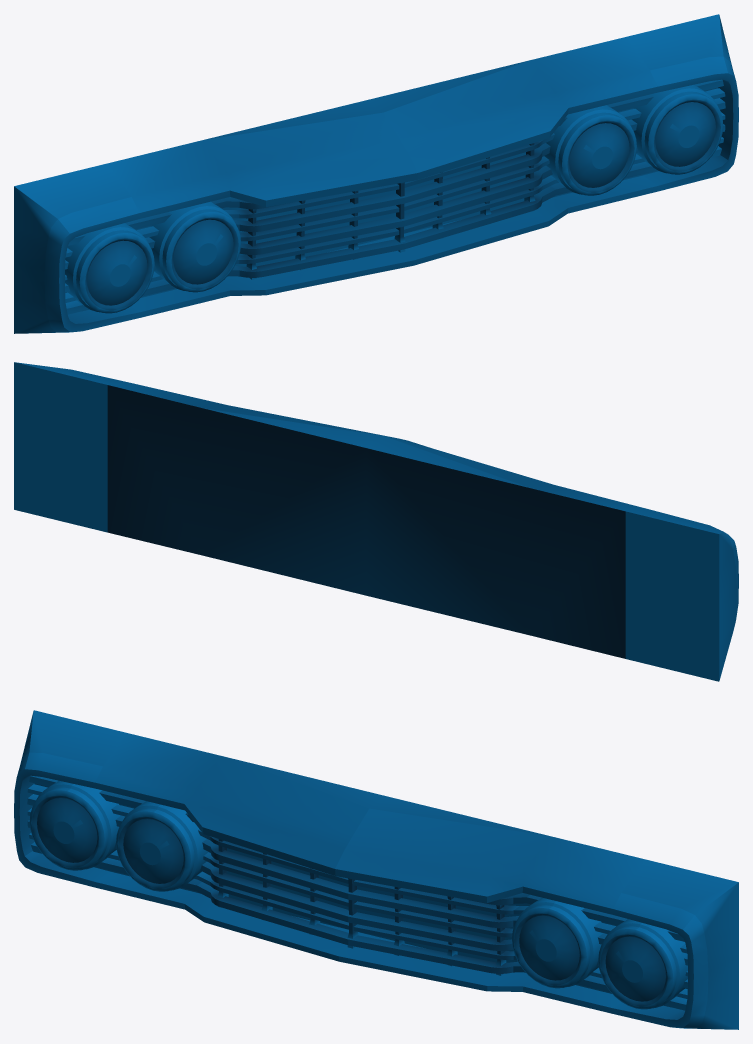
Rendered from obj_rewards_carfrontpanel.fbx.
The picture shows the model from 3 angles, top to bottom: view 1: azimuth 30°, elevation 25°; view 2: azimuth 150°, elevation 25°; view 3: azimuth 330°, elevation 25°; orthographic projection.
Visible parts, largest first — view 1: geo_carfrontpanel; view 2: geo_carfrontpanel; view 3: geo_carfrontpanel.
Part boxes in pixels (x1=…): geo_carfrontpanel: x1=14, y1=14, x2=738, y2=333; geo_carfrontpanel: x1=14, y1=362, x2=738, y2=681; geo_carfrontpanel: x1=14, y1=710, x2=738, y2=1029.
Size of the model in its own units: 10 by 2 by 1.26.
